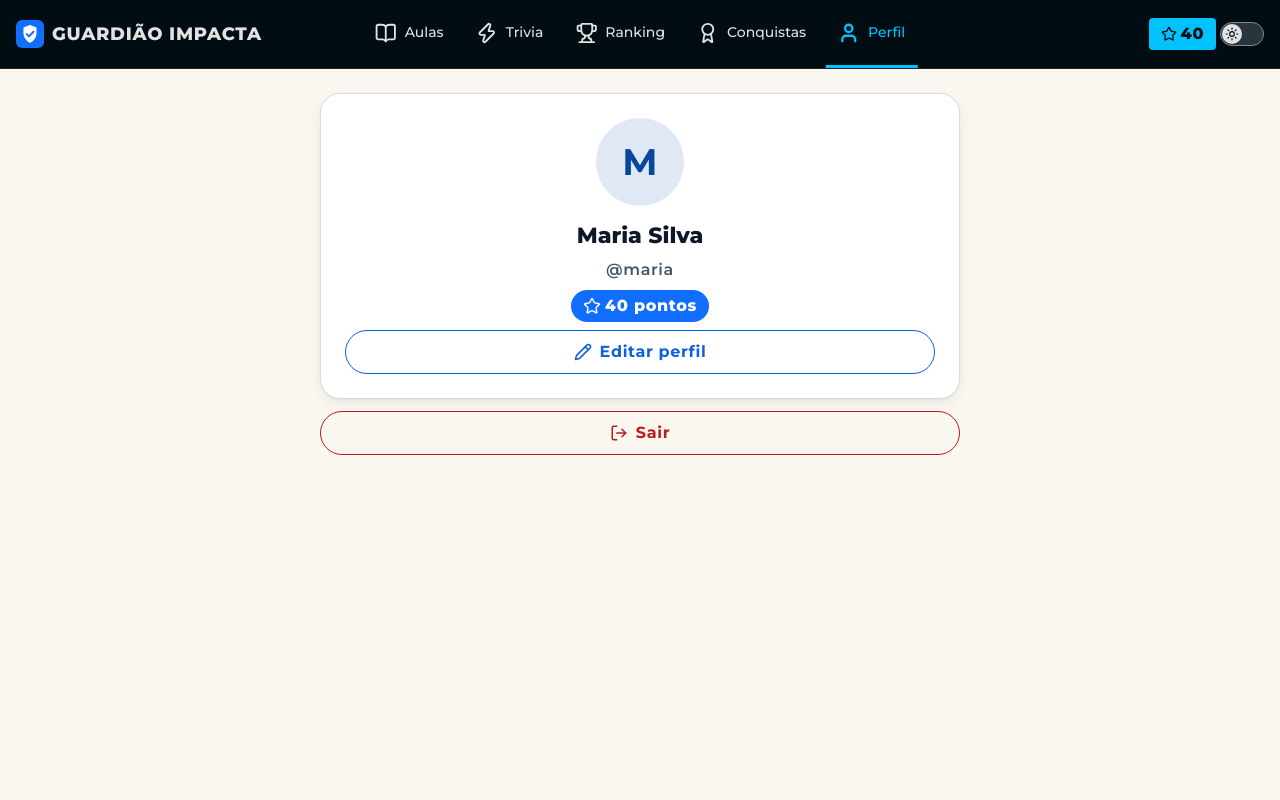
it: consentimento no perfil › salvar o perfil não envia consentimento
(page scrolled)
Check: the navigation bar named "Navegação principal" is shown, box [363,0,917,68]
Click the button "Editar perfil" at x=640, y=352, box [345,330,935,374]
(page scrolled)
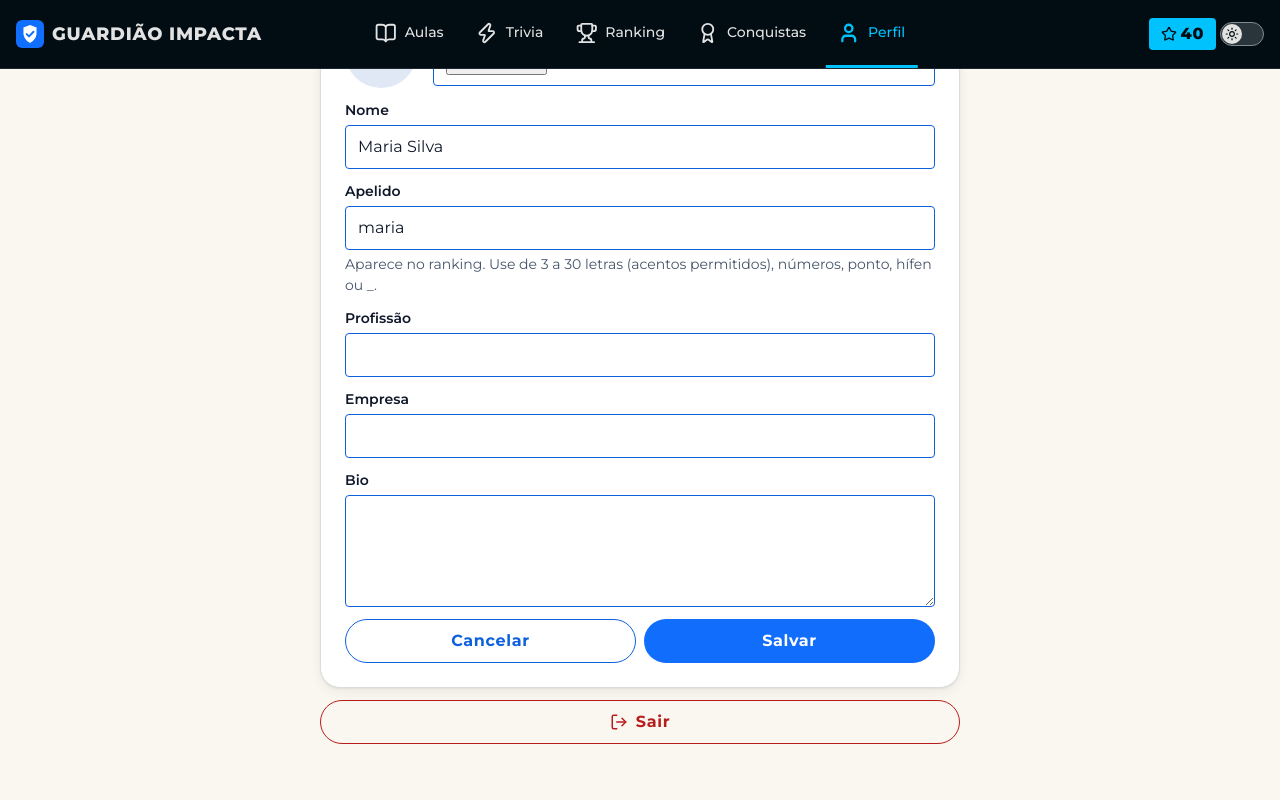
Click the button "Salvar" at x=790, y=640, box [644,618,935,662]
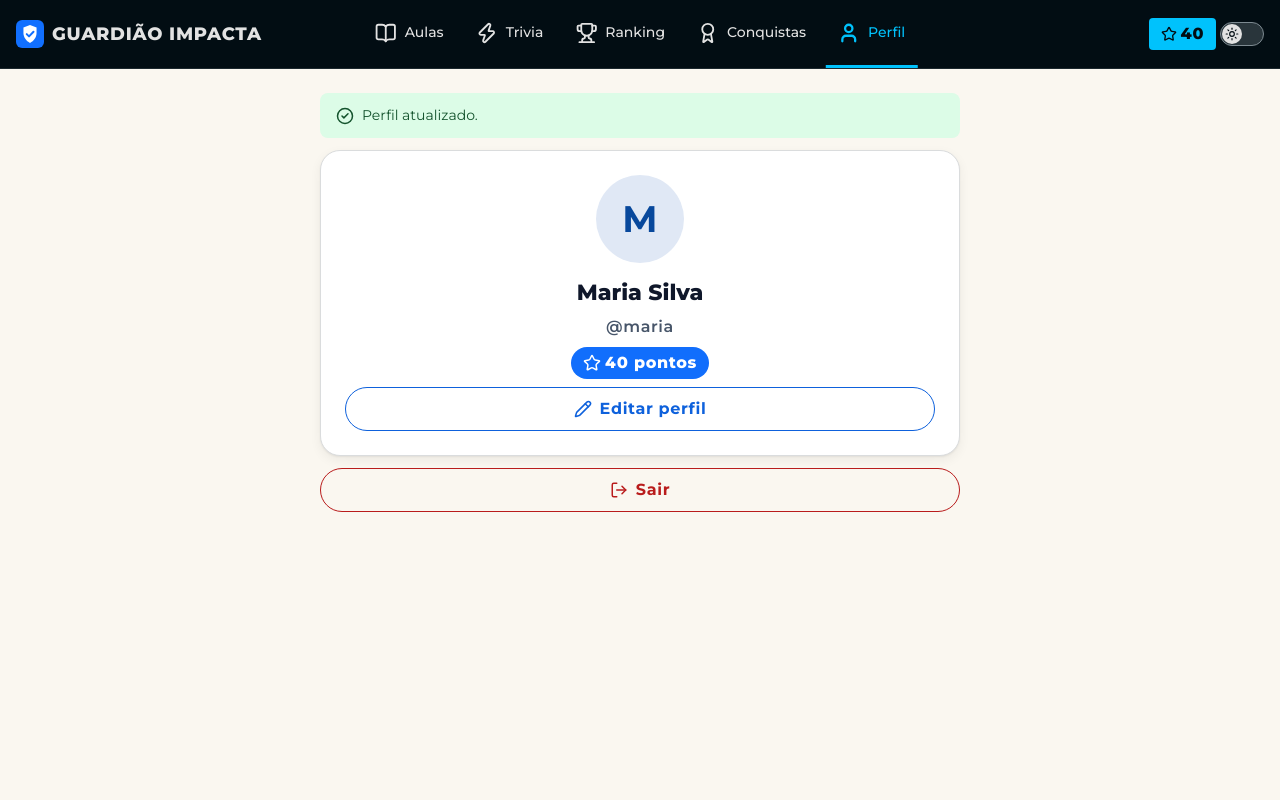
Check: the text "Perfil atualizado." is shown, box [362,105,478,126]
